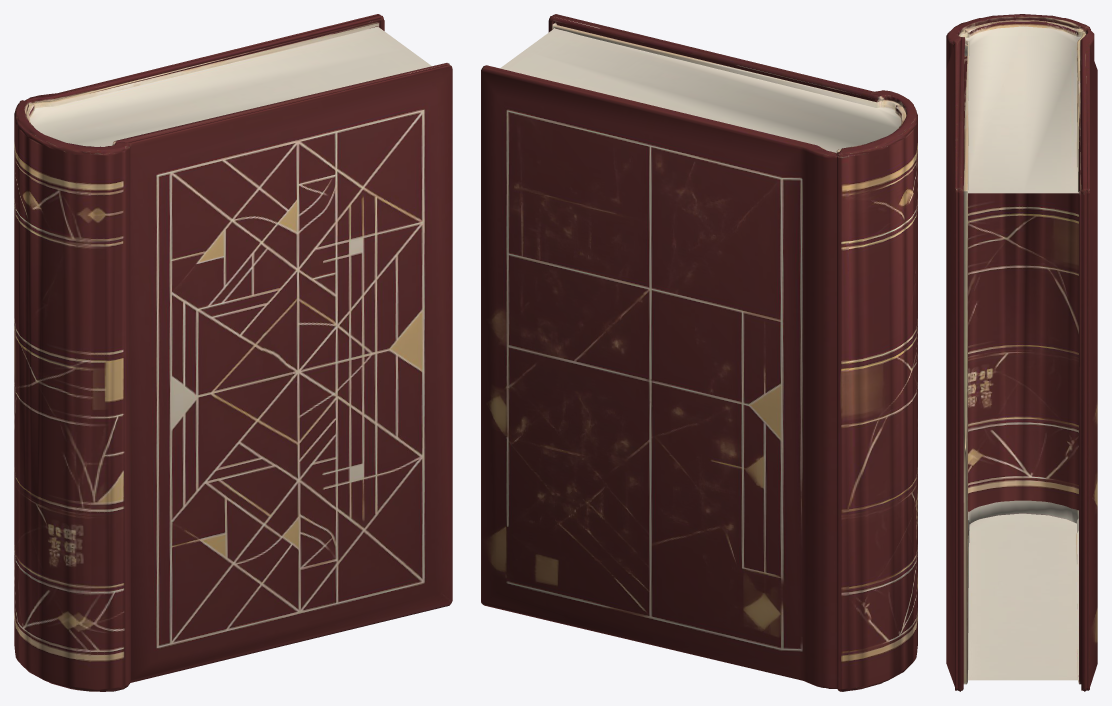
Rendered from poor-charlies-almanack.glb.
3 views of the same model, side by side, from view 1: azimuth 30°, elevation 25°; view 2: azimuth 150°, elevation 25°; view 3: azimuth 270°, elevation 25° (orthographic). The views are drawn at different scales.
Visible parts, largest first — view 1: Poor Charlie’s Almanack; view 2: Poor Charlie’s Almanack; view 3: Poor Charlie’s Almanack.
Boxes of the visible parts, x1,y1,x2,y2 form: Poor Charlie’s Almanack: (14,14,452,691); Poor Charlie’s Almanack: (481,14,917,691); Poor Charlie’s Almanack: (946,14,1097,691).
Size of the model in its own units: 0.752 by 0.998 by 0.2715.
1 material, 1 textured.
